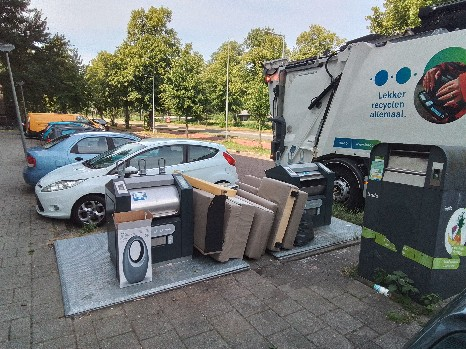Container: (107, 169, 187, 250), (280, 159, 345, 223)
Rest: (197, 183, 248, 255), (250, 170, 290, 250)
Voertuig: (258, 45, 466, 149), (30, 136, 250, 201), (102, 213, 160, 289), (28, 107, 101, 135), (37, 120, 102, 146)
